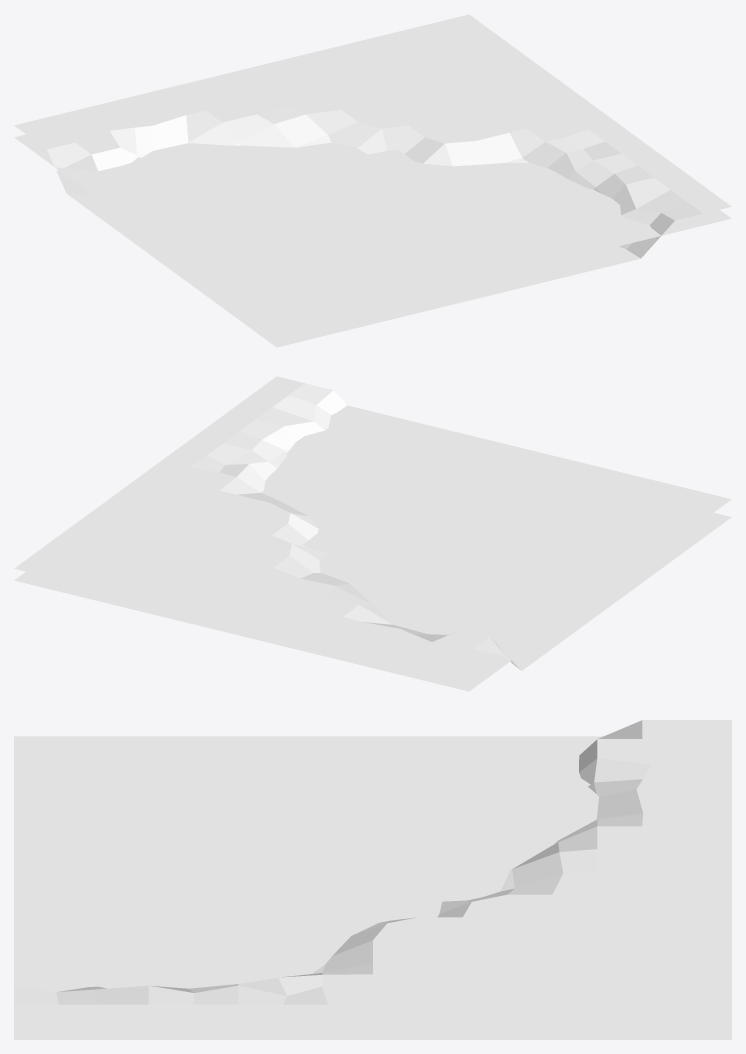
Rendered from ground.lake.shore.bend.glb.
3 views of the same model, one above another, from view 1: azimuth 30°, elevation 25°; view 2: azimuth 150°, elevation 25°; view 3: azimuth 270°, elevation 25° (orthographic). The views are drawn at different scales.
Parts seen in each view (by area): view 1: ground.lake.shore.bend, ground.lake.shore.water.bend; view 2: ground.lake.shore.water.bend, ground.lake.shore.bend; view 3: ground.lake.shore.water.bend, ground.lake.shore.bend.
Part boxes in pixels (<box>): ground.lake.shore.bend: <box>14,14,731,347</box>; ground.lake.shore.water.bend: <box>14,134,731,329</box>; ground.lake.shore.water.bend: <box>14,405,731,691</box>; ground.lake.shore.bend: <box>14,376,731,679</box>; ground.lake.shore.water.bend: <box>14,736,731,1039</box>; ground.lake.shore.bend: <box>14,720,731,1023</box>.
Size of what is drawn, in the model's own units: 4 by 0.25 by 4.
1 material, 1 textured.
